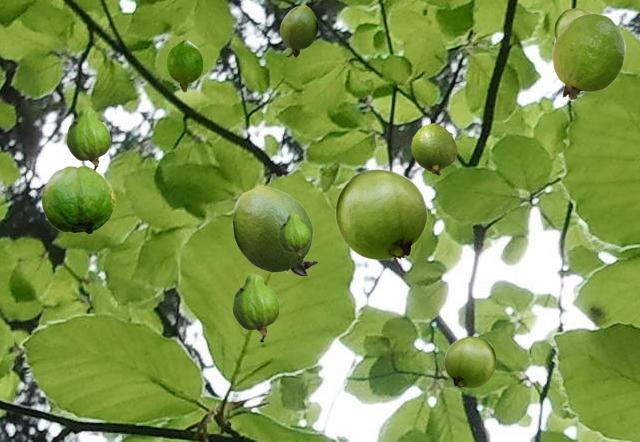guava: (335, 169, 426, 259), (232, 185, 317, 275), (552, 13, 624, 99), (41, 165, 114, 233), (232, 273, 278, 341), (66, 107, 109, 170), (444, 336, 495, 387), (411, 123, 456, 174), (280, 5, 317, 56), (166, 40, 202, 91), (278, 213, 309, 259), (554, 8, 592, 39)
